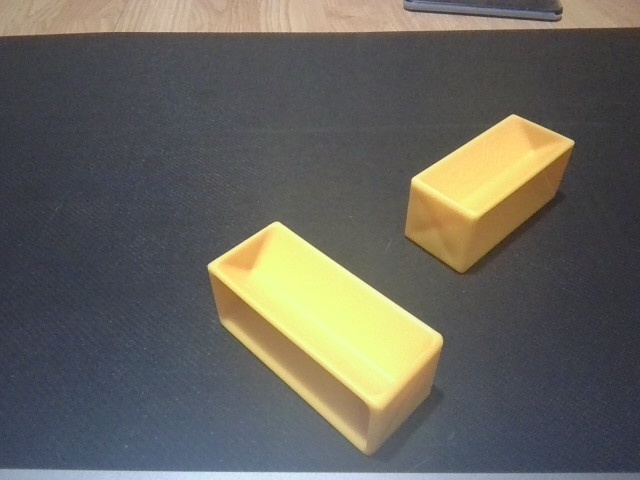YellowSample: (200, 217, 446, 460), (401, 108, 579, 276)
